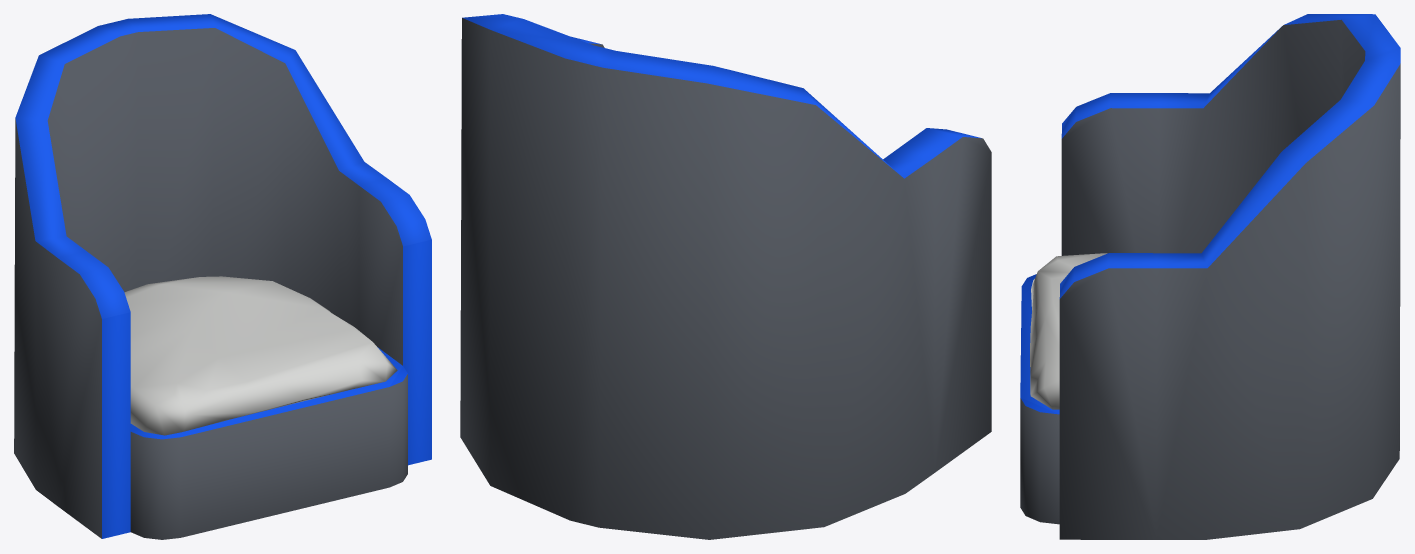
File: Armchair_B.glb
The picture shows the model from 3 angles, left to right: view 1: azimuth 30°, elevation 25°; view 2: azimuth 150°, elevation 25°; view 3: azimuth 270°, elevation 25°; orthographic projection. The views are drawn at different scales.
Parts seen in each view (by area): view 1: ArmchairB; view 2: ArmchairB; view 3: ArmchairB.
Boxes of the visible parts, box(x1,y1,x2,y2) form: ArmchairB: box(14, 14, 431, 539); ArmchairB: box(460, 14, 991, 539); ArmchairB: box(1020, 14, 1400, 539).
Size of what is drawn, in the model's own units: 1.4 by 1.48 by 1.28.
Materials: 1 (1 with a texture image).
